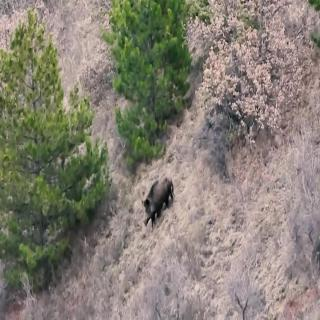Pig: (132, 163, 179, 233)
